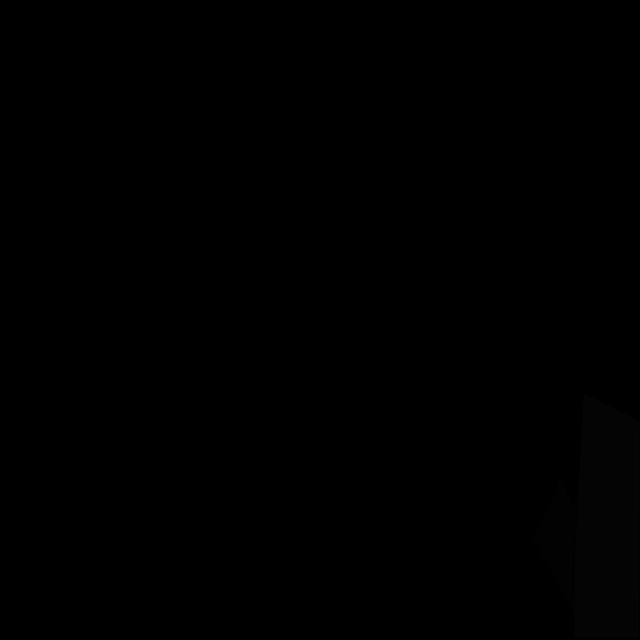cardboard: (533, 477, 578, 617)
soft_plastic: (574, 393, 640, 638)
